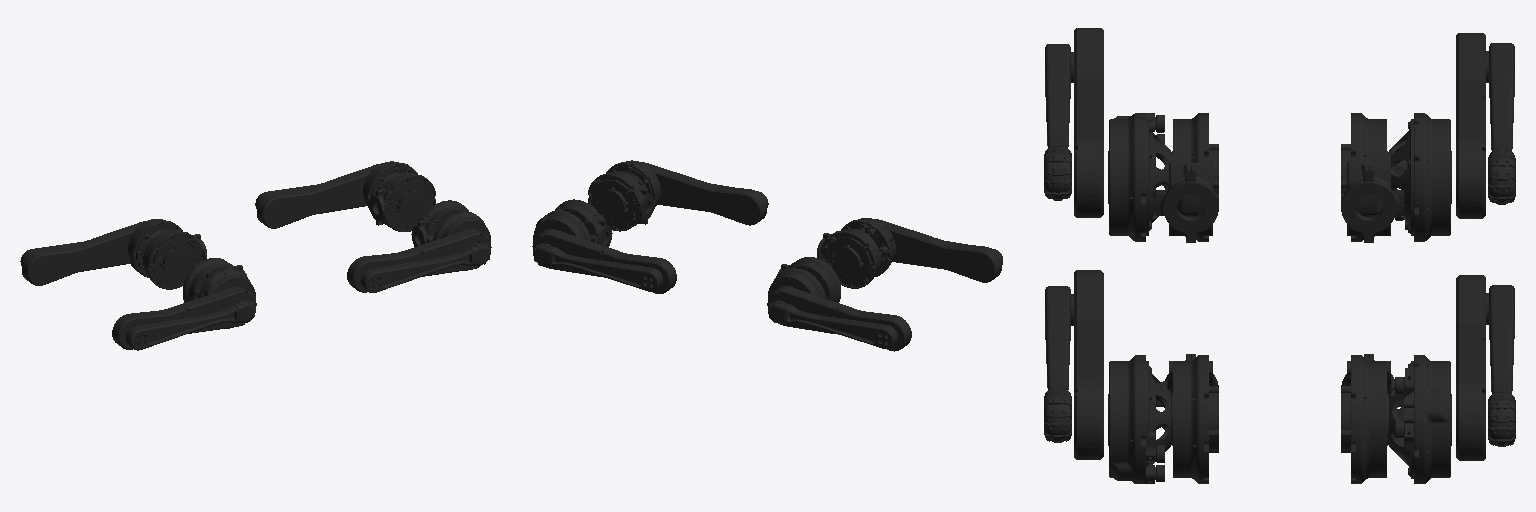
--- What the picture shows (computed from the rendered views, not written in the file) ---
3 views of the same robot in one strip: view 1: azimuth 30°, elevation 25°; view 2: azimuth 150°, elevation 25°; view 3: azimuth 270°, elevation 25° (orthographic).
Robot: spirit — 19 links, 18 joints (12 revolute, 6 fixed); root link dummy; default pose: every joint at zero.
Visible links, largest first — view 1: hip1, hip0, upper0, upper1, upper3, upper2, lower2, lower3, hip2, hip3; view 2: hip3, hip2, upper2, upper3, upper1, upper0, lower0, lower1, hip0, hip1; view 3: hip3, hip2, hip1, hip0, upper3, upper2, upper0, upper1, lower0, lower1, lower2, lower3.
Link boxes in pixels (box(x1,y1,x2,y2)): hip1: box(128, 219, 206, 289); hip0: box(363, 161, 435, 231); upper0: box(257, 163, 381, 228); upper1: box(22, 221, 145, 285); upper3: box(112, 287, 256, 349); upper2: box(347, 229, 491, 292); lower2: box(360, 242, 490, 292); lower3: box(126, 299, 255, 350); hip2: box(411, 200, 490, 270); hip3: box(183, 258, 255, 328); hip3: box(817, 218, 895, 288); hip2: box(588, 160, 660, 231); upper2: box(641, 162, 766, 225); upper3: box(876, 219, 1001, 282); upper1: box(767, 286, 911, 351); upper0: box(532, 229, 676, 293); lower0: box(533, 243, 663, 291); lower1: box(768, 300, 897, 348); hip0: box(533, 199, 612, 246); hip1: box(768, 257, 840, 302); hip3: box(1108, 113, 1218, 242); hip2: box(1108, 354, 1218, 483); hip1: box(1341, 113, 1451, 242); hip0: box(1341, 354, 1451, 483); upper3: box(1074, 28, 1103, 217); upper2: box(1074, 270, 1103, 459); upper0: box(1456, 275, 1485, 460); upper1: box(1456, 33, 1485, 218); lower0: box(1486, 285, 1515, 446); lower1: box(1486, 43, 1515, 204); lower2: box(1044, 286, 1073, 442); lower3: box(1044, 44, 1073, 200).
Bounding box of the posed robot: 0.7392 × 0.3719 × 0.102 m (x, y, z).
Meshes: 4 distinct files referenced, 12 mesh visuals loaded (3 binary STL); not drawn: 1 (reference not matched to a file when rendering).

The robot description file, URDF, robot "spirit":
<?xml version="1.0" encoding="utf-8"?>
<!-- =================================================================================== -->
<!-- |    This document was autogenerated by xacro from spirit40_gaz.urdf.xacro        | -->
<!-- |    EDITING THIS FILE BY HAND IS NOT RECOMMENDED                                 | -->
<!-- =================================================================================== -->
<!--
 * Copyright (C) Ghost Robotics - All Rights Reserved
 * Unauthorized copying of this file, via any medium is strictly prohibited
 * Proprietary and confidential
 * Written by Avik De <[email redacted]> and Tom Jacobs <[email redacted]>
-->
<robot name="spirit">
  <!-- Define materials -->
  <material name="gray">
    <color rgba="0.2 0.2 0.2 1.0"/>
  </material>
  <material name="darkgray">
    <color rgba="0.1 0.1 0.1 1.0"/>
  </material>
  <material name="silver">
    <color rgba="0.3 0.3 0.3 1.0"/>
  </material>
  <material name="red">
    <color rgba="0.8 0.0 0.2 1.0"/>
  </material>
  <!-- Body -->
  <link name="dummy">
   </link>
  <link name="body">
    <!--		<visual>-->
    <!--			<origin rpy="0 0 0" xyz="0 0 0"/>-->
    <!--			<geometry>-->
    <!--				<box size="${bodyLength} ${bodyWidth} ${bodyHeight}"/>-->
    <!--			</geometry>-->
    <!--			<material name="darkgray"/>-->
    <!--		</visual>-->
    <visual>
      <origin rpy="0 0 0" xyz="0.03 0 0"/>
      <geometry>
        <mesh filename="package://spirit_description/meshes/Spirit40_Body_Mesh_transformed.stl" scale="1 1 1"/>
      </geometry>
      <material name="gray"/>
    </visual>
    <inertial>
      <mass value="5.75"/>
      <!-- Uniform box -->
      <!-- <inertia ixx="1/12*${bodyMass}*(${bodyWidth}*${bodyWidth} + ${bodyHeight}*${bodyHeight})"  ixy="0"  ixz="0" iyy="1/12*${bodyMass}*(${bodyLength}*${bodyLength} + ${bodyHeight}*${bodyHeight})" iyz="0" izz="1/12*${bodyMass}*(${bodyLength}*${bodyLength} + ${bodyWidth}*${bodyWidth})"/> -->
      <inertia ixx="0.05" ixy="0" ixz="0" iyy="0.1" iyz="0" izz="0.1"/>
    </inertial>
    <!-- Just copy geometry for collision -->
    <collision>
      <origin rpy="0 0 0" xyz="0 0 0"/>
      <geometry>
        <box size="0.335 0.24 0.104"/>
      </geometry>
    </collision>
  </link>
  <joint name="dummy_joint" type="fixed">
     <parent link="dummy"/>
     <child link="body"/>
   </joint>
  <gazebo reference="body">
    <material>Gazebo/Gray</material>
  </gazebo>
  <!-- this way planner can run unchanged-->
  <link name="t265_pose_frame"/>
  <joint name="body_to_t265" type="fixed">
    <parent link="body"/>
    <child link="t265_pose_frame"/>
    <origin rpy="0 0 0" xyz="0.0 0.0 0.0"/>
    <axis xyz="1 0 0"/>
  </joint>
  <gazebo reference="body">
    <gravity>true</gravity>
    <sensor name="imu_sensor" type="imu">
      <always_on>true</always_on>
      <visualize>true</visualize>
      <topic>__default_topic_</topic>
      <plugin filename="libgazebo_ros_imu_sensor.so" name="imu_plugin">
        <topicName>imu</topicName>
        <bodyName>body</bodyName>
        <updateRateHZ>500.0</updateRateHZ>
        <gaussianNoise>0.0</gaussianNoise>
        <xyzOffset>0 0 0</xyzOffset>
        <rpyOffset>0 0 0</rpyOffset>
        <frameName>body</frameName>
        <initialOrientationAsReference>true</initialOrientationAsReference>
      </plugin>
      <pose>0 0 0 0 0 0</pose>
    </sensor>
  </gazebo>
  <!-- Hip motor -->
  <link name="hip0">
    <!--			<visual>-->
    <!--				<origin rpy="${pi/2} 0 0" xyz="${front * 0} ${left * (dPodAxisToEdge)} 0"/>-->
    <!--				<geometry>-->
    <!--					<cylinder length="${podLength}" radius="${podRadius}"/>-->
    <!--				</geometry>-->
    <!--				<material name="${color}"/>-->
    <!--			</visual>-->
    <visual>
      <origin rpy="0 0 0" xyz="0 0.0 0"/>
      <geometry>
        <mesh filename="package://spirit_description/meshes/Spirit40_Hip_Module_transformed.stl" scale="1 1 1"/>
      </geometry>
      <material name="gray"/>
    </visual>
    <collision>
      <origin rpy="1.5707963268 0 0" xyz="0 0.028 0"/>
      <geometry>
        <cylinder length="0.08" radius="0.055"/>
      </geometry>
    </collision>
    <inertial>
      <mass value="0.575"/>
      <!-- <inertia ixx="1/12*${podMass}*${podLength}*${podLength} + 1/4*${podMass}*${podRadius}*${podRadius}"  ixy="0"  ixz="0" iyy="1/12*${podMass}*${podLength}*${podLength} + 1/4*${podMass}*${podRadius}*${podRadius}" iyz="0" izz="1/2*${podMass}*${podRadius}*$
				{podRadius}" /> -->
      <inertia ixx="0.00066963541" ixy="0" ixz="0" iyy="0.00066963541" iyz="0" izz="0.0008696875"/>
    </inertial>
  </link>
  <gazebo reference="hip0">
    <material>Gazebo/Gray</material>
  </gazebo>
  <!-- Abduction joint. Joint names are: 8 9 10 11 -->
  <joint name="8" type="revolute">
    <parent link="body"/>
    <child link="hip0"/>
    <axis xyz="1 0 0"/>
    <origin xyz="0.2263 0.07 0"/>
    <limit effort="40" lower="-0.707" upper="0.707" velocity="30"/>
    <dynamics damping="0.0" friction="0.0"/>
  </joint>
  <!-- Transmission elements required for Gazebo -->
  <transmission name="transmission_8">
    <type>transmission_interface/SimpleTransmission</type>
    <joint name="8">
      <hardwareInterface>hardware_interface/EffortJointInterface</hardwareInterface>
    </joint>
    <actuator name="motor_8">
      <hardwareInterface>EffortJointInterface</hardwareInterface>
      <mechanicalReduction>1</mechanicalReduction>
    </actuator>
  </transmission>
  <!-- Upper leg -->
  <link name="upper0">
    <!--			<visual>-->
    <!--				<origin rpy="0 0 0" xyz="-${upperLegLength/2} ${-left*upperLegWidth} 0"/>-->
    <!--				<geometry>-->
    <!--					<box size="${upperLegLength} ${upperLegWidth} ${upperLegHeight}"/>-->
    <!--				</geometry>-->
    <!--				<material name="silver"/>-->
    <!--			</visual>-->
    <visual>
      <origin rpy="0 0  0" xyz="0 -0.02 0"/>
      <geometry>
        <mesh filename="package://spirit_description/meshes/Spirit40_Upper_leg_transformed.stl" scale="1 1 1"/>
      </geometry>
      <material name="gray"/>
    </visual>
    <collision>
      <origin rpy="0 0 0" xyz="-0.103 -0.022 0"/>
      <geometry>
        <box size="0.206 0.022 0.055"/>
      </geometry>
    </collision>
    <inertial>
      <mass value="0.775"/>
      <inertia ixx="5e-05" ixy="0" ixz="0" iyy="0.001" iyz="0" izz="0.001"/>
    </inertial>
  </link>
  <gazebo reference="upper0">
    <material>Gazebo/Gray</material>
  </gazebo>
  <!-- Hip joint. (Motor to upper leg). Joint names are: 0 2 4 6 -->
  <joint name="0" type="revolute">
    <parent link="hip0"/>
    <child link="upper0"/>
    <axis xyz="0 -1 0"/>
    <origin xyz="0 0.10098 0"/>
    <!--  rpy="0 -0.3 0" -->
    <limit effort="40" lower="-6.28318530718" upper="6.28318530718" velocity="30"/>
    <dynamics damping="0.0" friction="0.0"/>
  </joint>
  <!-- Transmission elements required for Gazebo -->
  <transmission name="transmission_0">
    <type>transmission_interface/SimpleTransmission</type>
    <joint name="0">
      <hardwareInterface>hardware_interface/EffortJointInterface</hardwareInterface>
    </joint>
    <actuator name="motor_0">
      <hardwareInterface>EffortJointInterface</hardwareInterface>
      <mechanicalReduction>1</mechanicalReduction>
    </actuator>
  </transmission>
  <!-- Lower leg -->
  <link name="lower0">
    <!--			<visual>-->
    <!--				<origin rpy="0 ${pi/2} 0" xyz="${lowerLegLength/2} 0 0"/>-->
    <!--				<geometry>-->
    <!--					<cylinder length="${lowerLegLength}" radius="${lowerLegRadius}"/>-->
    <!--				</geometry>-->
    <!--				<material name="darkgray"/>-->
    <!--			</visual>-->
    <visual>
      <origin rpy="0 0  0" xyz="0 0 0"/>
      <geometry>
        <mesh filename="package://spirit_description/meshes/Spirit40_Lower_Leg_transformed.stl" scale="1 1 1"/>
      </geometry>
      <material name="gray"/>
    </visual>
    <collision>
      <origin rpy="0 1.5707963268 0" xyz="0.103 0 0"/>
      <geometry>
        <cylinder length="0.206" radius="0.013"/>
      </geometry>
    </collision>
    <inertial>
      <mass value="0.075"/>
      <inertia ixx="5e-06" ixy="0" ixz="0" iyy="0.0001" iyz="0" izz="0.0001"/>
    </inertial>
  </link>
  <gazebo reference="lower0">
    <material>Gazebo/Black</material>
  </gazebo>
  <!-- Knee joint. Joint names are: 1 3 5 7 -->
  <joint name="1" type="revolute">
    <parent link="upper0"/>
    <child link="lower0"/>
    <axis xyz="0 1 0"/>
    <origin xyz="-0.206 0 0"/>
    <!--rpy="0 0.5 0"-->
    <limit effort="40" lower="0" upper="3.14159265359" velocity="30"/>
    <dynamics damping="0.0" friction="0.0"/>
  </joint>
  <!-- Transmission elements required for Gazebo -->
  <transmission name="transmission_1">
    <type>transmission_interface/SimpleTransmission</type>
    <joint name="1">
      <hardwareInterface>hardware_interface/EffortJointInterface</hardwareInterface>
    </joint>
    <actuator name="motor_1">
      <hardwareInterface>EffortJointInterface</hardwareInterface>
      <mechanicalReduction>1</mechanicalReduction>
    </actuator>
  </transmission>
  <!-- Toe -->
  <link name="toe0">
    <contact>
      <friction_anchor/>
      <stiffness value="30000.0"/>
      <damping value="1000.0"/>
      <spinning_friction value="0.3"/>
      <lateral_friction value="50.0"/>
    </contact>
    <visual>
      <origin rpy="0 0 0" xyz="0 0 0"/>
      <geometry>
        <!--					<sphere radius="${toeRadius}"/>-->
        <sphere radius="0.001"/>
      </geometry>
      <material name="darkgray"/>
    </visual>
    <collision>
      <origin rpy="0 0 0" xyz="0 0 0"/>
      <geometry>
        <sphere radius="0.02"/>
      </geometry>
      <surface>
        <friction>
          <ode>
            <mu>100000</mu>
            <mu2>100000</mu2>
          </ode>
        </friction>
        <contact>
          <ode>
            <kp>30000.0</kp>
            <kd>1000.0</kd>
          </ode>
        </contact>
      </surface>
    </collision>
    <inertial>
      <mass value="0.015"/>
      <inertia ixx="0.000025" ixy="0" ixz="0" iyy="0.000025" iyz="0" izz="0.000025"/>
      <!-- <inertia ixx="2/5*${toeMass}*${toeRadius}*${toeRadius}"  ixy="0"  ixz="0" iyy="2/5*${toeMass}*${toeRadius}*${toeRadius}" iyz="0" izz="2/5*${toeMass}*${toeRadius}*${toeRadius}" /> -->
    </inertial>
  </link>
  <gazebo reference="toe0">
    <material>Gazebo/DarkGray</material>
    <collision>
      <surface>
        <bounce>
          <restitution_coefficient>0</restitution_coefficient>
          <threshold>1e+06</threshold>
        </bounce>
        <friction>
          <torsional>
            <coefficient>0.3</coefficient>
          </torsional>
          <ode>
            <mu>100.0</mu>
            <mu2>50.0</mu2>
          </ode>
          <bullet>
            <rolling_friction>0.3</rolling_friction>
            <friction2>50.0</friction2>
          </bullet>
        </friction>
        <contact>
          <bullet>
            <kp>30000.0</kp>
            <kd>1000.0</kd>
          </bullet>
          <ode>
            <kp>30000.0</kp>
            <kd>1000.0</kd>
          </ode>
        </contact>
      </surface>
    </collision>
  </gazebo>
  <joint name="jtoe0" type="fixed">
    <parent link="lower0"/>
    <child link="toe0"/>
    <origin xyz="0.206 0 -0.0"/>
    <dynamics damping="0.0" friction="0.0"/>
  </joint>
  <!-- Hip motor -->
  <link name="hip1">
    <!--			<visual>-->
    <!--				<origin rpy="${pi/2} 0 0" xyz="${front * 0} ${left * (dPodAxisToEdge)} 0"/>-->
    <!--				<geometry>-->
    <!--					<cylinder length="${podLength}" radius="${podRadius}"/>-->
    <!--				</geometry>-->
    <!--				<material name="${color}"/>-->
    <!--			</visual>-->
    <visual>
      <origin rpy="0 3.14159265359 0" xyz="0.0 0.0 0"/>
      <geometry>
        <mesh filename="package://spirit_description/meshes/Spirit40_Hip_Module_transformed.stl" scale="1 1 1"/>
      </geometry>
      <material name="gray"/>
    </visual>
    <collision>
      <origin rpy="1.5707963268 0 0" xyz="0 0.028 0"/>
      <geometry>
        <cylinder length="0.08" radius="0.055"/>
      </geometry>
    </collision>
    <inertial>
      <mass value="0.575"/>
      <!-- <inertia ixx="1/12*${podMass}*${podLength}*${podLength} + 1/4*${podMass}*${podRadius}*${podRadius}"  ixy="0"  ixz="0" iyy="1/12*${podMass}*${podLength}*${podLength} + 1/4*${podMass}*${podRadius}*${podRadius}" iyz="0" izz="1/2*${podMass}*${podRadius}*$
				{podRadius}" /> -->
      <inertia ixx="0.00066963541" ixy="0" ixz="0" iyy="0.00066963541" iyz="0" izz="0.0008696875"/>
    </inertial>
  </link>
  <gazebo reference="hip1">
    <material>Gazebo/Gray</material>
  </gazebo>
  <!-- Abduction joint. Joint names are: 8 9 10 11 -->
  <joint name="9" type="revolute">
    <parent link="body"/>
    <child link="hip1"/>
    <axis xyz="1 0 0"/>
    <origin xyz="-0.2263 0.07 0"/>
    <limit effort="40" lower="-0.707" upper="0.707" velocity="30"/>
    <dynamics damping="0.0" friction="0.0"/>
  </joint>
  <!-- Transmission elements required for Gazebo -->
  <transmission name="transmission_9">
    <type>transmission_interface/SimpleTransmission</type>
    <joint name="9">
      <hardwareInterface>hardware_interface/EffortJointInterface</hardwareInterface>
    </joint>
    <actuator name="motor_9">
      <hardwareInterface>EffortJointInterface</hardwareInterface>
      <mechanicalReduction>1</mechanicalReduction>
    </actuator>
  </transmission>
  <!-- Upper leg -->
  <link name="upper1">
    <!--			<visual>-->
    <!--				<origin rpy="0 0 0" xyz="-${upperLegLength/2} ${-left*upperLegWidth} 0"/>-->
    <!--				<geometry>-->
    <!--					<box size="${upperLegLength} ${upperLegWidth} ${upperLegHeight}"/>-->
    <!--				</geometry>-->
    <!--				<material name="silver"/>-->
    <!--			</visual>-->
    <visual>
      <origin rpy="0 0  0" xyz="0 -0.02 0"/>
      <geometry>
        <mesh filename="package://spirit_description/meshes/Spirit40_Upper_leg_transformed.stl" scale="1 1 1"/>
      </geometry>
      <material name="gray"/>
    </visual>
    <collision>
      <origin rpy="0 0 0" xyz="-0.103 -0.022 0"/>
      <geometry>
        <box size="0.206 0.022 0.055"/>
      </geometry>
    </collision>
    <inertial>
      <mass value="0.775"/>
      <inertia ixx="5e-05" ixy="0" ixz="0" iyy="0.001" iyz="0" izz="0.001"/>
    </inertial>
  </link>
  <gazebo reference="upper1">
    <material>Gazebo/Gray</material>
  </gazebo>
  <!-- Hip joint. (Motor to upper leg). Joint names are: 0 2 4 6 -->
  <joint name="2" type="revolute">
    <parent link="hip1"/>
    <child link="upper1"/>
    <axis xyz="0 -1 0"/>
    <origin xyz="0 0.10098 0"/>
    <!--  rpy="0 -0.3 0" -->
    <limit effort="40" lower="-6.28318530718" upper="6.28318530718" velocity="30"/>
    <dynamics damping="0.0" friction="0.0"/>
  </joint>
  <!-- Transmission elements required for Gazebo -->
  <transmission name="transmission_2">
    <type>transmission_interface/SimpleTransmission</type>
    <joint name="2">
      <hardwareInterface>hardware_interface/EffortJointInterface</hardwareInterface>
    </joint>
    <actuator name="motor_2">
      <hardwareInterface>EffortJointInterface</hardwareInterface>
      <mechanicalReduction>1</mechanicalReduction>
    </actuator>
  </transmission>
  <!-- Lower leg -->
  <link name="lower1">
    <!--			<visual>-->
    <!--				<origin rpy="0 ${pi/2} 0" xyz="${lowerLegLength/2} 0 0"/>-->
    <!--				<geometry>-->
    <!--					<cylinder length="${lowerLegLength}" radius="${lowerLegRadius}"/>-->
    <!--				</geometry>-->
    <!--				<material name="darkgray"/>-->
    <!--			</visual>-->
    <visual>
      <origin rpy="0 0  0" xyz="0 0 0"/>
      <geometry>
        <mesh filename="package://spirit_description/meshes/Spirit40_Lower_Leg_transformed.stl" scale="1 1 1"/>
      </geometry>
      <material name="gray"/>
    </visual>
    <collision>
      <origin rpy="0 1.5707963268 0" xyz="0.103 0 0"/>
      <geometry>
        <cylinder length="0.206" radius="0.013"/>
      </geometry>
    </collision>
    <inertial>
      <mass value="0.075"/>
      <inertia ixx="5e-06" ixy="0" ixz="0" iyy="0.0001" iyz="0" izz="0.0001"/>
    </inertial>
  </link>
  <gazebo reference="lower1">
    <material>Gazebo/Black</material>
  </gazebo>
  <!-- Knee joint. Joint names are: 1 3 5 7 -->
  <joint name="3" type="revolute">
    <parent link="upper1"/>
    <child link="lower1"/>
    <axis xyz="0 1 0"/>
    <origin xyz="-0.206 0 0"/>
    <!--rpy="0 0.5 0"-->
    <limit effort="40" lower="0" upper="3.14159265359" velocity="30"/>
    <dynamics damping="0.0" friction="0.0"/>
  </joint>
  <!-- Transmission elements required for Gazebo -->
  <transmission name="transmission_3">
    <type>transmission_interface/SimpleTransmission</type>
    <joint name="3">
      <hardwareInterface>hardware_interface/EffortJointInterface</hardwareInterface>
    </joint>
    <actuator name="motor_3">
      <hardwareInterface>EffortJointInterface</hardwareInterface>
      <mechanicalReduction>1</mechanicalReduction>
    </actuator>
  </transmission>
  <!-- Toe -->
  <link name="toe1">
    <contact>
      <friction_anchor/>
      <stiffness value="30000.0"/>
      <damping value="1000.0"/>
      <spinning_friction value="0.3"/>
      <lateral_friction value="50.0"/>
    </contact>
    <visual>
      <origin rpy="0 0 0" xyz="0 0 0"/>
      <geometry>
        <!--					<sphere radius="${toeRadius}"/>-->
        <sphere radius="0.001"/>
      </geometry>
      <material name="darkgray"/>
    </visual>
    <collision>
      <origin rpy="0 0 0" xyz="0 0 0"/>
      <geometry>
        <sphere radius="0.02"/>
      </geometry>
      <surface>
        <friction>
          <ode>
            <mu>100000</mu>
            <mu2>100000</mu2>
          </ode>
        </friction>
        <contact>
          <ode>
            <kp>30000.0</kp>
            <kd>1000.0</kd>
          </ode>
        </contact>
      </surface>
    </collision>
    <inertial>
      <mass value="0.015"/>
      <inertia ixx="0.000025" ixy="0" ixz="0" iyy="0.000025" iyz="0" izz="0.000025"/>
      <!-- <inertia ixx="2/5*${toeMass}*${toeRadius}*${toeRadius}"  ixy="0"  ixz="0" iyy="2/5*${toeMass}*${toeRadius}*${toeRadius}" iyz="0" izz="2/5*${toeMass}*${toeRadius}*${toeRadius}" /> -->
    </inertial>
  </link>
  <gazebo reference="toe1">
    <material>Gazebo/DarkGray</material>
    <collision>
      <surface>
        <bounce>
          <restitution_coefficient>0</restitution_coefficient>
          <threshold>1e+06</threshold>
        </bounce>
        <friction>
          <torsional>
            <coefficient>0.3</coefficient>
          </torsional>
          <ode>
            <mu>100.0</mu>
            <mu2>50.0</mu2>
          </ode>
          <bullet>
            <rolling_friction>0.3</rolling_friction>
            <friction2>50.0</friction2>
          </bullet>
        </friction>
        <contact>
          <bullet>
            <kp>30000.0</kp>
            <kd>1000.0</kd>
          </bullet>
          <ode>
            <kp>30000.0</kp>
            <kd>1000.0</kd>
          </ode>
        </contact>
      </surface>
    </collision>
  </gazebo>
  <joint name="jtoe1" type="fixed">
    <parent link="lower1"/>
    <child link="toe1"/>
    <origin xyz="0.206 0 -0.0"/>
    <dynamics damping="0.0" friction="0.0"/>
  </joint>
  <!-- Hip motor -->
  <link name="hip2">
    <!--			<visual>-->
    <!--				<origin rpy="${pi/2} 0 0" xyz="${front * 0} ${left * (dPodAxisToEdge)} 0"/>-->
    <!--				<geometry>-->
    <!--					<cylinder length="${podLength}" radius="${podRadius}"/>-->
    <!--				</geometry>-->
    <!--				<material name="${color}"/>-->
    <!--			</visual>-->
    <visual>
      <origin rpy="3.14159265359 0 0" xyz="0.0 0 0.0"/>
      <geometry>
        <mesh filename="package://spirit_description/meshes/Spirit40_Hip_Module_transformed.stl" scale="1 1 1"/>
      </geometry>
      <material name="gray"/>
    </visual>
    <collision>
      <origin rpy="1.5707963268 0 0" xyz="0 -0.028 0"/>
      <geometry>
        <cylinder length="0.08" radius="0.055"/>
      </geometry>
    </collision>
    <inertial>
      <mass value="0.575"/>
      <!-- <inertia ixx="1/12*${podMass}*${podLength}*${podLength} + 1/4*${podMass}*${podRadius}*${podRadius}"  ixy="0"  ixz="0" iyy="1/12*${podMass}*${podLength}*${podLength} + 1/4*${podMass}*${podRadius}*${podRadius}" iyz="0" izz="1/2*${podMass}*${podRadius}*$
				{podRadius}" /> -->
      <inertia ixx="0.00066963541" ixy="0" ixz="0" iyy="0.00066963541" iyz="0" izz="0.0008696875"/>
    </inertial>
  </link>
  <gazebo reference="hip2">
    <material>Gazebo/Gray</material>
  </gazebo>
  <!-- Abduction joint. Joint names are: 8 9 10 11 -->
  <joint name="10" type="revolute">
    <parent link="body"/>
    <child link="hip2"/>
    <axis xyz="1 0 0"/>
    <origin xyz="0.2263 -0.07 0"/>
    <limit effort="40" lower="-0.707" upper="0.707" velocity="30"/>
    <dynamics damping="0.0" friction="0.0"/>
  </joint>
  <!-- Transmission elements required for Gazebo -->
  <transmission name="transmission_10">
    <type>transmission_interface/SimpleTransmission</type>
    <joint name="10">
      <hardwareInterface>hardware_interface/EffortJointInterface</hardwareInterface>
    </joint>
    <actuator name="motor_10">
      <hardwareInterface>EffortJointInterface</hardwareInterface>
      <mechanicalReduction>1</mechanicalReduction>
    </actuator>
  </transmission>
  <!-- Upper leg -->
  <link name="upper2">
    <!--			<visual>-->
    <!--				<origin rpy="0 0 0" xyz="-${upperLegLength/2} ${-left*upperLegWidth} 0"/>-->
    <!--				<geometry>-->
    <!--					<box size="${upperLegLength} ${upperLegWidth} ${upperLegHeight}"/>-->
    <!--				</geometry>-->
    <!--				<material name="silver"/>-->
    <!--			</visual>-->
    <visual>
      <origin rpy="3.14159265359 0  0" xyz="0 0.02 0"/>
      <geometry>
        <mesh filename="package://spirit_description/meshes/Spirit40_Upper_leg_transformed.stl" scale="1 1 1"/>
      </geometry>
      <material name="gray"/>
    </visual>
    <collision>
      <origin rpy="0 0 0" xyz="-0.103 0.022 0"/>
      <geometry>
        <box size="0.206 0.022 0.055"/>
      </geometry>
    </collision>
    <inertial>
      <mass value="0.775"/>
      <inertia ixx="5e-05" ixy="0" ixz="0" iyy="0.001" iyz="0" izz="0.001"/>
    </inertial>
  </link>
  <gazebo reference="upper2">
    <material>Gazebo/Gray</material>
  </gazebo>
  <!-- Hip joint. (Motor to upper leg). Joint names are: 0 2 4 6 -->
  <joint name="4" type="revolute">
    <parent link="hip2"/>
    <child link="upper2"/>
    <axis xyz="0 -1 0"/>
    <origin xyz="0 -0.10098 0"/>
    <!--  rpy="0 -0.3 0" -->
    <limit effort="40" lower="-6.28318530718" upper="6.28318530718" velocity="30"/>
    <dynamics damping="0.0" friction="0.0"/>
  </joint>
  <!-- Transmission elements required for Gazebo -->
  <transmission name="transmission_4">
    <type>transmission_interface/SimpleTransmission</type>
    <joint name="4">
      <hardwareInterface>hardware_interface/EffortJointInterface</hardwareInterface>
    </joint>
    <actuator name="motor_4">
      <hardwareInterface>EffortJointInterface</hardwareInterface>
      <mechanicalReduction>1</mechanicalReduction>
    </actuator>
  </transmission>
  <!-- Lower leg -->
  <link name="lower2">
    <!--			<visual>-->
    <!--				<origin rpy="0 ${pi/2} 0" xyz="${lowerLegLength/2} 0 0"/>-->
    <!--				<geometry>-->
    <!--					<cylinder length="${lowerLegLength}" radius="${lowerLegRadius}"/>-->
    <!--				</geometry>-->
    <!--				<material name="darkgray"/>-->
    <!--			</visual>-->
    <visual>
      <origin rpy="3.14159265359 0  0" xyz="0 0 0"/>
      <geometry>
        <mesh filename="package://spirit_description/meshes/Spirit40_Lower_Leg_transformed.stl" scale="1 1 1"/>
      </geometry>
      <material name="gray"/>
    </visual>
    <collision>
      <origin rpy="0 1.5707963268 0" xyz="0.103 0 0"/>
      <geometry>
        <cylinder length="0.206" radius="0.013"/>
      </geometry>
    </collision>
    <inertial>
      <mass value="0.075"/>
      <inertia ixx="5e-06" ixy="0" ixz="0" iyy="0.0001" iyz="0" izz="0.0001"/>
    </inertial>
  </link>
  <gazebo reference="lower2">
    <material>Gazebo/Black</material>
  </gazebo>
  <!-- Knee joint. Joint names are: 1 3 5 7 -->
  <joint name="5" type="revolute">
    <parent link="upper2"/>
    <child link="lower2"/>
    <axis xyz="0 1 0"/>
    <origin xyz="-0.206 0 0"/>
    <!--rpy="0 0.5 0"-->
    <limit effort="40" lower="0" upper="3.14159265359" velocity="30"/>
    <dynamics damping="0.0" friction="0.0"/>
  </joint>
  <!-- Transmission elements required for Gazebo -->
  <transmission name="transmission_5">
    <type>transmission_interface/SimpleTransmission</type>
    <joint name="5">
      <hardwareInterface>hardware_interface/EffortJointInterface</hardwareInterface>
    </joint>
    <actuator name="motor_5">
      <hardwareInterface>EffortJointInterface</hardwareInterface>
      <mechanicalReduction>1</mechanicalReduction>
    </actuator>
  </transmission>
  <!-- Toe -->
  <link name="toe2">
    <contact>
      <friction_anchor/>
      <stiffness value="30000.0"/>
      <damping value="1000.0"/>
      <spinning_friction value="0.3"/>
      <lateral_friction value="50.0"/>
    </contact>
    <visual>
      <origin rpy="0 0 0" xyz="0 0 0"/>
      <geometry>
        <!--					<sphere radius="${toeRadius}"/>-->
        <sphere radius="0.001"/>
      </geometry>
      <material name="darkgray"/>
    </visual>
    <collision>
      <origin rpy="0 0 0" xyz="0 0 0"/>
      <geometry>
        <sphere radius="0.02"/>
      </geometry>
      <surface>
        <friction>
          <ode>
            <mu>100000</mu>
            <mu2>100000</mu2>
          </ode>
        </friction>
        <contact>
          <ode>
            <kp>30000.0</kp>
            <kd>1000.0</kd>
          </ode>
        </contact>
      </surface>
    </collision>
    <inertial>
      <mass value="0.015"/>
      <inertia ixx="0.000025" ixy="0" ixz="0" iyy="0.000025" iyz="0" izz="0.000025"/>
      <!-- <inertia ixx="2/5*${toeMass}*${toeRadius}*${toeRadius}"  ixy="0"  ixz="0" iyy="2/5*${toeMass}*${toeRadius}*${toeRadius}" iyz="0" izz="2/5*${toeMass}*${toeRadius}*${toeRadius}" /> -->
    </inertial>
  </link>
  <gazebo reference="toe2">
    <material>Gazebo/DarkGray</material>
    <collision>
      <surface>
        <bounce>
          <restitution_coefficient>0</restitution_coefficient>
          <threshold>1e+06</threshold>
        </bounce>
        <friction>
          <torsional>
            <coefficient>0.3</coefficient>
          </torsional>
          <ode>
            <mu>100.0</mu>
            <mu2>50.0</mu2>
          </ode>
          <bullet>
            <rolling_friction>0.3</rolling_friction>
            <friction2>50.0</friction2>
          </bullet>
        </friction>
        <contact>
          <bullet>
            <kp>30000.0</kp>
            <kd>1000.0</kd>
          </bullet>
          <ode>
            <kp>30000.0</kp>
            <kd>1000.0</kd>
          </ode>
        </contact>
      </surface>
    </collision>
  </gazebo>
  <joint name="jtoe2" type="fixed">
    <parent link="lower2"/>
    <child link="toe2"/>
    <origin xyz="0.206 0 -0.0"/>
    <dynamics damping="0.0" friction="0.0"/>
  </joint>
  <!-- Hip motor -->
  <link name="hip3">
    <!--			<visual>-->
    <!--				<origin rpy="${pi/2} 0 0" xyz="${front * 0} ${left * (dPodAxisToEdge)} 0"/>-->
    <!--				<geometry>-->
    <!--					<cylinder length="${podLength}" radius="${podRadius}"/>-->
    <!--				</geometry>-->
    <!--				<material name="${color}"/>-->
    <!--			</visual>-->
    <visual>
      <origin rpy="3.14159265359 3.14159265359 0" xyz="0.0 0.0 0.0"/>
      <geometry>
        <mesh filename="package://spirit_description/meshes/Spirit40_Hip_Module_transformed.stl" scale="1 1 1"/>
      </geometry>
      <material name="gray"/>
    </visual>
    <collision>
      <origin rpy="1.5707963268 0 0" xyz="0 -0.028 0"/>
      <geometry>
        <cylinder length="0.08" radius="0.055"/>
      </geometry>
    </collision>
    <inertial>
      <mass value="0.575"/>
      <!-- <inertia ixx="1/12*${podMass}*${podLength}*${podLength} + 1/4*${podMass}*${podRadius}*${podRadius}"  ixy="0"  ixz="0" iyy="1/12*${podMass}*${podLength}*${podLength} + 1/4*${podMass}*${podRadius}*${podRadius}" iyz="0" izz="1/2*${podMass}*${podRadius}*$
				{podRadius}" /> -->
      <inertia ixx="0.00066963541" ixy="0" ixz="0" iyy="0.00066963541" iyz="0" izz="0.0008696875"/>
    </inertial>
  </link>
  <gazebo reference="hip3">
    <material>Gazebo/Gray</material>
  </gazebo>
  <!-- Abduction joint. Joint names are: 8 9 10 11 -->
  <joint name="11" type="revolute">
    <parent link="body"/>
    <child link="hip3"/>
    <axis xyz="1 0 0"/>
    <origin xyz="-0.2263 -0.07 0"/>
    <limit effort="40" lower="-0.707" upper="0.707" velocity="30"/>
    <dynamics damping="0.0" friction="0.0"/>
  </joint>
  <!-- Transmission elements required for Gazebo -->
  <transmission name="transmission_11">
    <type>transmission_interface/SimpleTransmission</type>
    <joint name="11">
      <hardwareInterface>hardware_interface/EffortJointInterface</hardwareInterface>
    </joint>
    <actuator name="motor_11">
      <hardwareInterface>EffortJointInterface</hardwareInterface>
      <mechanicalReduction>1</mechanicalReduction>
    </actuator>
  </transmission>
  <!-- Upper leg -->
  <link name="upper3">
    <!--			<visual>-->
    <!--				<origin rpy="0 0 0" xyz="-${upperLegLength/2} ${-left*upperLegWidth} 0"/>-->
    <!--				<geometry>-->
    <!--					<box size="${upperLegLength} ${upperLegWidth} ${upperLegHeight}"/>-->
    <!--				</geometry>-->
    <!--				<material name="silver"/>-->
    <!--			</visual>-->
    <visual>
      <origin rpy="3.14159265359 0  0" xyz="0 0.02 0"/>
      <geometry>
        <mesh filename="package://spirit_description/meshes/Spirit40_Upper_leg_transformed.stl" scale="1 1 1"/>
      </geometry>
      <material name="gray"/>
    </visual>
    <collision>
      <origin rpy="0 0 0" xyz="-0.103 0.022 0"/>
      <geometry>
        <box size="0.206 0.022 0.055"/>
      </geometry>
    </collision>
    <inertial>
      <mass value="0.775"/>
      <inertia ixx="5e-05" ixy="0" ixz="0" iyy="0.001" iyz="0" izz="0.001"/>
    </inertial>
  </link>
  <gazebo reference="upper3">
    <material>Gazebo/Gray</material>
  </gazebo>
  <!-- Hip joint. (Motor to upper leg). Joint names are: 0 2 4 6 -->
  <joint name="6" type="revolute">
    <parent link="hip3"/>
    <child link="upper3"/>
    <axis xyz="0 -1 0"/>
    <origin xyz="0 -0.10098 0"/>
    <!--  rpy="0 -0.3 0" -->
    <limit effort="40" lower="-6.28318530718" upper="6.28318530718" velocity="30"/>
    <dynamics damping="0.0" friction="0.0"/>
  </joint>
  <!-- Transmission elements required for Gazebo -->
  <transmission name="transmission_6">
    <type>transmission_interface/SimpleTransmission</type>
    <joint name="6">
      <hardwareInterface>hardware_interface/EffortJointInterface</hardwareInterface>
    </joint>
    <actuator name="motor_6">
      <hardwareInterface>EffortJointInterface</hardwareInterface>
      <mechanicalReduction>1</mechanicalReduction>
    </actuator>
  </transmission>
  <!-- Lower leg -->
  <link name="lower3">
    <!--			<visual>-->
    <!--				<origin rpy="0 ${pi/2} 0" xyz="${lowerLegLength/2} 0 0"/>-->
    <!--				<geometry>-->
    <!--					<cylinder length="${lowerLegLength}" radius="${lowerLegRadius}"/>-->
    <!--				</geometry>-->
    <!--				<material name="darkgray"/>-->
    <!--			</visual>-->
    <visual>
      <origin rpy="3.14159265359 0  0" xyz="0 0 0"/>
      <geometry>
        <mesh filename="package://spirit_description/meshes/Spirit40_Lower_Leg_transformed.stl" scale="1 1 1"/>
      </geometry>
      <material name="gray"/>
    </visual>
    <collision>
      <origin rpy="0 1.5707963268 0" xyz="0.103 0 0"/>
      <geometry>
        <cylinder length="0.206" radius="0.013"/>
      </geometry>
    </collision>
    <inertial>
      <mass value="0.075"/>
      <inertia ixx="5e-06" ixy="0" ixz="0" iyy="0.0001" iyz="0" izz="0.0001"/>
    </inertial>
  </link>
  <gazebo reference="lower3">
    <material>Gazebo/Black</material>
  </gazebo>
  <!-- Knee joint. Joint names are: 1 3 5 7 -->
  <joint name="7" type="revolute">
    <parent link="upper3"/>
    <child link="lower3"/>
    <axis xyz="0 1 0"/>
    <origin xyz="-0.206 0 0"/>
    <!--rpy="0 0.5 0"-->
    <limit effort="40" lower="0" upper="3.14159265359" velocity="30"/>
    <dynamics damping="0.0" friction="0.0"/>
  </joint>
  <!-- Transmission elements required for Gazebo -->
  <transmission name="transmission_7">
    <type>transmission_interface/SimpleTransmission</type>
    <joint name="7">
      <hardwareInterface>hardware_interface/EffortJointInterface</hardwareInterface>
    </joint>
    <actuator name="motor_7">
      <hardwareInterface>EffortJointInterface</hardwareInterface>
      <mechanicalReduction>1</mechanicalReduction>
    </actuator>
  </transmission>
  <!-- Toe -->
  <link name="toe3">
    <contact>
      <friction_anchor/>
      <stiffness value="30000.0"/>
      <damping value="1000.0"/>
      <spinning_friction value="0.3"/>
      <lateral_friction value="50.0"/>
    </contact>
    <visual>
      <origin rpy="0 0 0" xyz="0 0 0"/>
      <geometry>
        <!--					<sphere radius="${toeRadius}"/>-->
        <sphere radius="0.001"/>
      </geometry>
      <material name="darkgray"/>
    </visual>
    <collision>
      <origin rpy="0 0 0" xyz="0 0 0"/>
      <geometry>
        <sphere radius="0.02"/>
      </geometry>
      <surface>
        <friction>
          <ode>
            <mu>100000</mu>
            <mu2>100000</mu2>
          </ode>
        </friction>
        <contact>
          <ode>
            <kp>30000.0</kp>
            <kd>1000.0</kd>
          </ode>
        </contact>
      </surface>
    </collision>
    <inertial>
      <mass value="0.015"/>
      <inertia ixx="0.000025" ixy="0" ixz="0" iyy="0.000025" iyz="0" izz="0.000025"/>
      <!-- <inertia ixx="2/5*${toeMass}*${toeRadius}*${toeRadius}"  ixy="0"  ixz="0" iyy="2/5*${toeMass}*${toeRadius}*${toeRadius}" iyz="0" izz="2/5*${toeMass}*${toeRadius}*${toeRadius}" /> -->
    </inertial>
  </link>
  <gazebo reference="toe3">
    <material>Gazebo/DarkGray</material>
    <collision>
      <surface>
        <bounce>
          <restitution_coefficient>0</restitution_coefficient>
          <threshold>1e+06</threshold>
        </bounce>
        <friction>
          <torsional>
            <coefficient>0.3</coefficient>
          </torsional>
          <ode>
            <mu>100.0</mu>
            <mu2>50.0</mu2>
          </ode>
          <bullet>
            <rolling_friction>0.3</rolling_friction>
            <friction2>50.0</friction2>
          </bullet>
        </friction>
        <contact>
          <bullet>
            <kp>30000.0</kp>
            <kd>1000.0</kd>
          </bullet>
          <ode>
            <kp>30000.0</kp>
            <kd>1000.0</kd>
          </ode>
        </contact>
      </surface>
    </collision>
  </gazebo>
  <joint name="jtoe3" type="fixed">
    <parent link="lower3"/>
    <child link="toe3"/>
    <origin xyz="0.206 0 -0.0"/>
    <dynamics damping="0.0" friction="0.0"/>
  </joint>
</robot>
